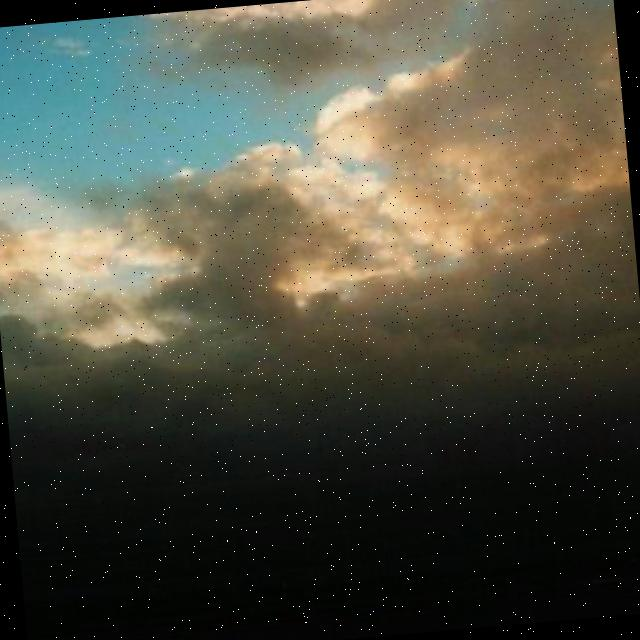Sc: (1, 1, 640, 504)
